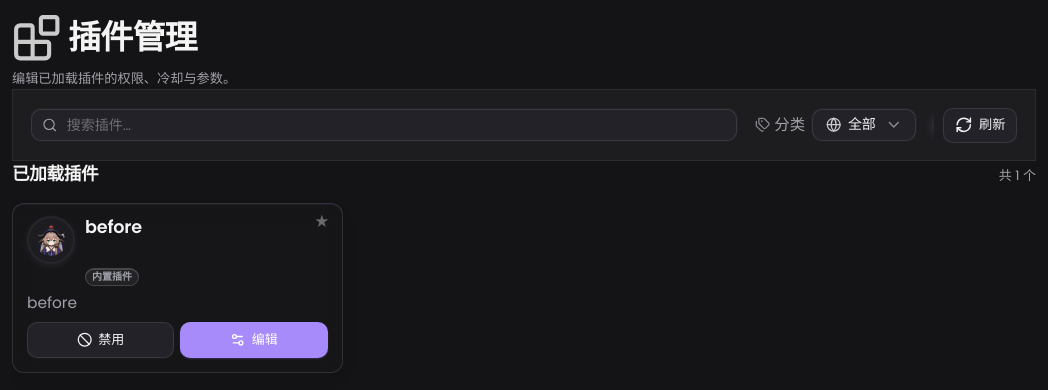
Scenario: PluginsPage refresh bypasses the module snapshot and renders the new directory
Expected: the heading "before" is shown, [85,215,142,239]
Click the button "刷新" at (980, 125), box [943,108,1017,143]
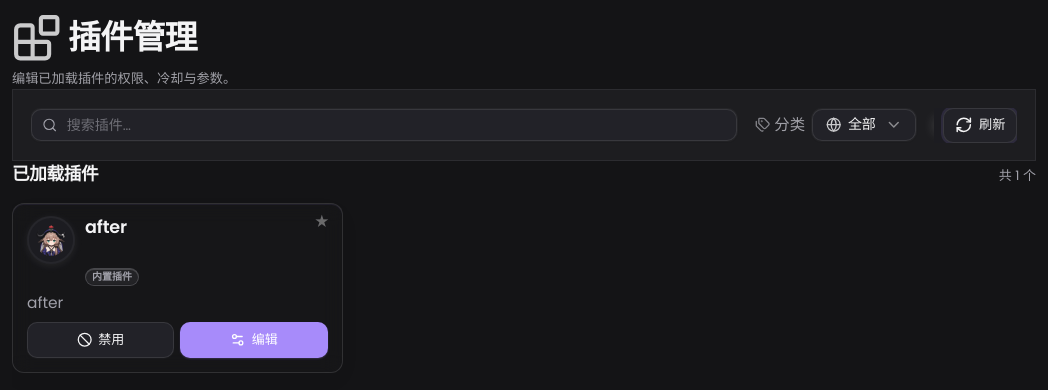
Result: the heading "after" is shown at [85,215,127,239]
